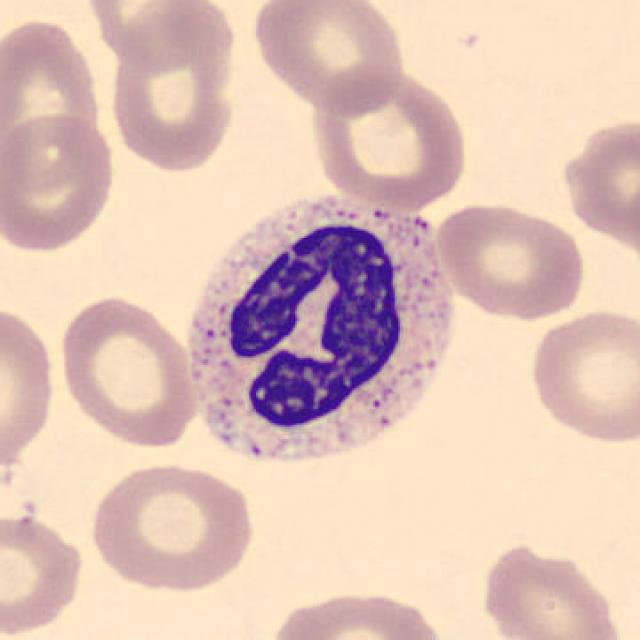Neutrophil: (172, 183, 460, 487)
RBC: (105, 3, 242, 176), (85, 458, 258, 594), (308, 68, 471, 212), (55, 291, 201, 449), (432, 199, 588, 323), (249, 0, 409, 115), (0, 109, 119, 256), (0, 12, 107, 173), (524, 305, 638, 448), (474, 537, 627, 640), (556, 111, 638, 261), (0, 508, 89, 638), (0, 299, 60, 476), (82, 0, 224, 71), (263, 587, 450, 640)
